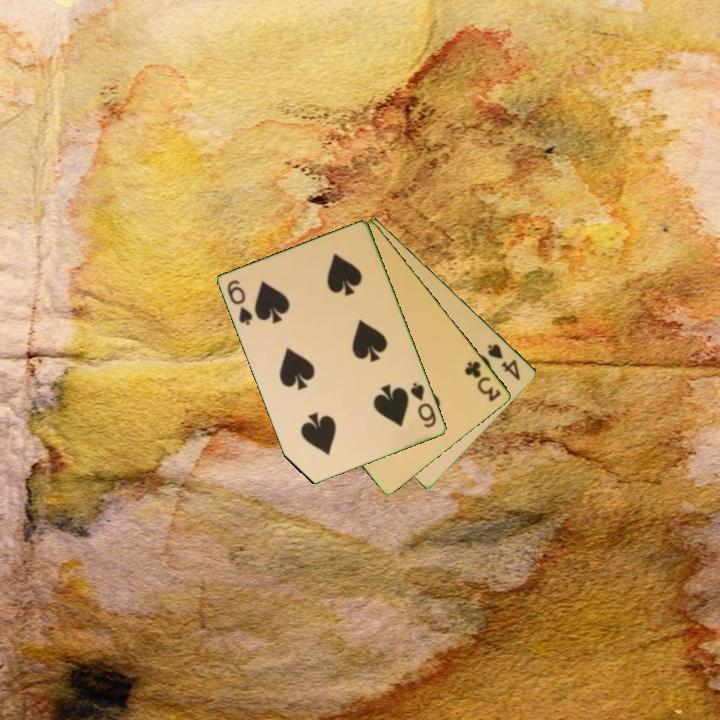3c: (461, 357, 504, 405)
4s: (484, 340, 524, 384)
6s: (407, 379, 439, 431), (224, 276, 256, 328)
